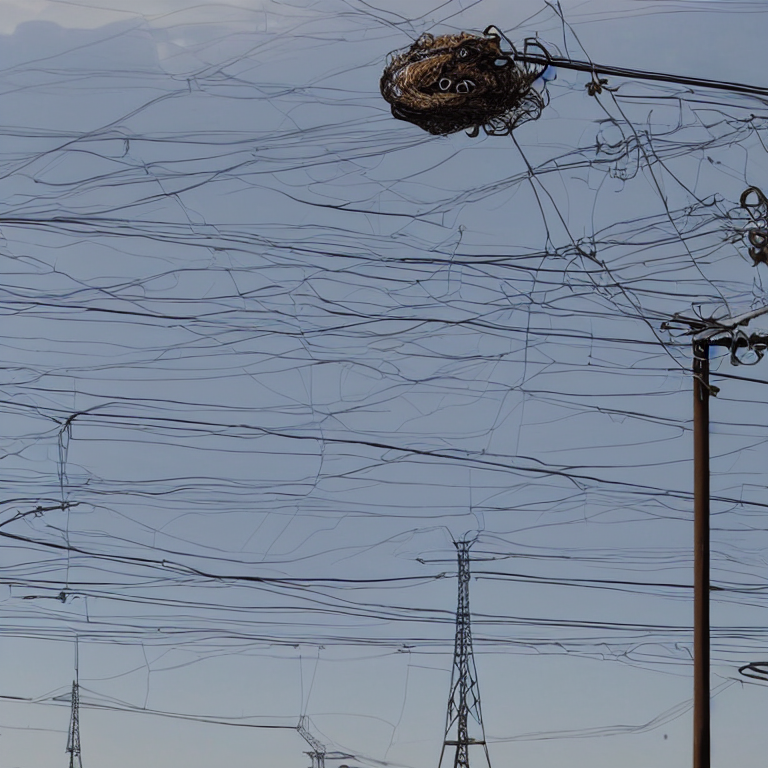nest: (385, 36, 524, 136)
